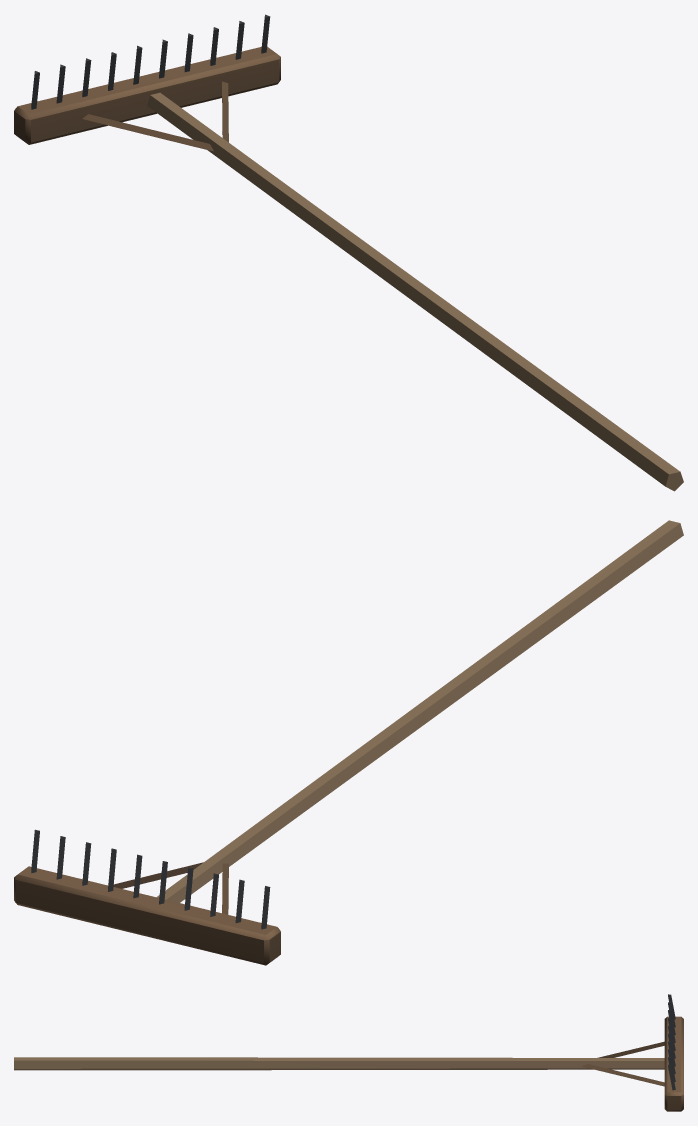
The model's file is ph_tool_rake.glb.
3 renders of one model, top to bottom at view 1: azimuth 30°, elevation 25°; view 2: azimuth 150°, elevation 25°; view 3: azimuth 270°, elevation 25°, orthographic. The views are drawn at different scales.
Visible parts, largest first — view 1: ph_tool_rake; view 2: ph_tool_rake; view 3: ph_tool_rake.
Boxes of the visible parts, left/top/right/bottom form: ph_tool_rake: left=14, top=14, right=683, bottom=491; ph_tool_rake: left=14, top=520, right=683, bottom=965; ph_tool_rake: left=14, top=994, right=683, bottom=1111.
Size of the model in its own units: 0.42 by 0.1098 by 1.52.
